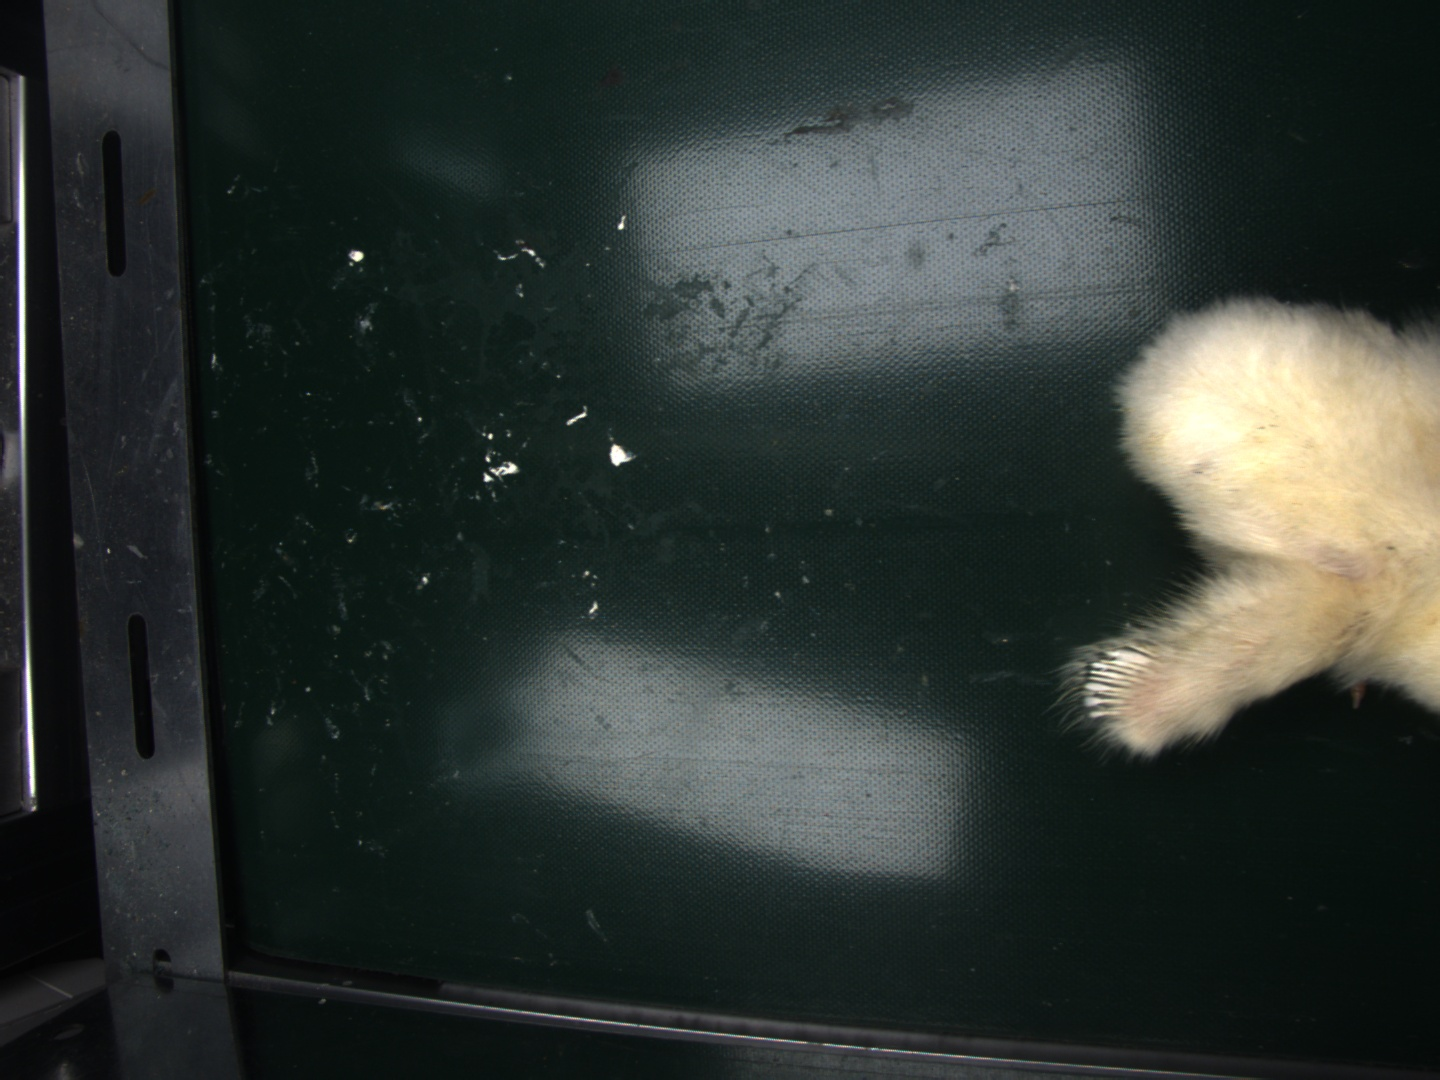male: (1082, 646, 1154, 731)
